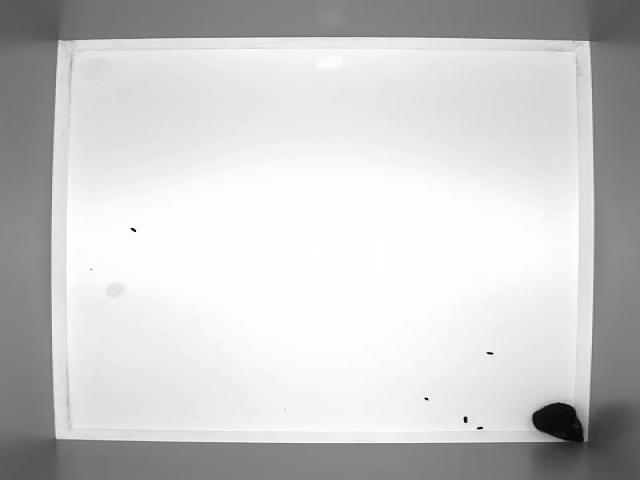Tikus: (531, 402, 587, 443)
